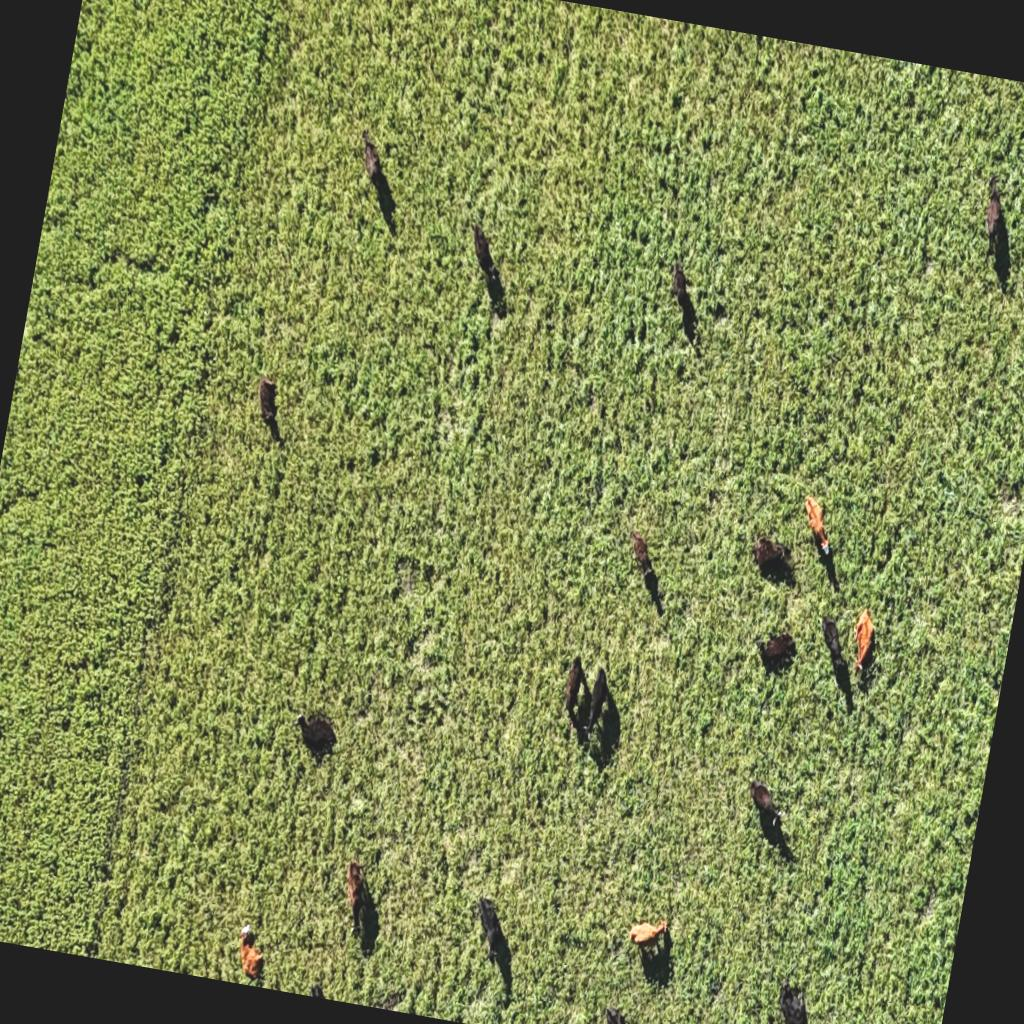cow: (336, 858, 380, 938), (740, 774, 788, 846), (792, 496, 839, 568), (974, 178, 1014, 260), (288, 706, 342, 764), (847, 602, 883, 680), (582, 666, 614, 750), (620, 529, 664, 587), (558, 655, 590, 734), (231, 922, 270, 983), (750, 628, 798, 676), (745, 534, 793, 582), (466, 222, 502, 285), (468, 896, 508, 952), (250, 374, 286, 436), (770, 975, 815, 1024), (813, 612, 852, 665), (626, 912, 668, 957), (355, 130, 386, 186), (666, 259, 694, 309), (594, 1009, 623, 1024)
